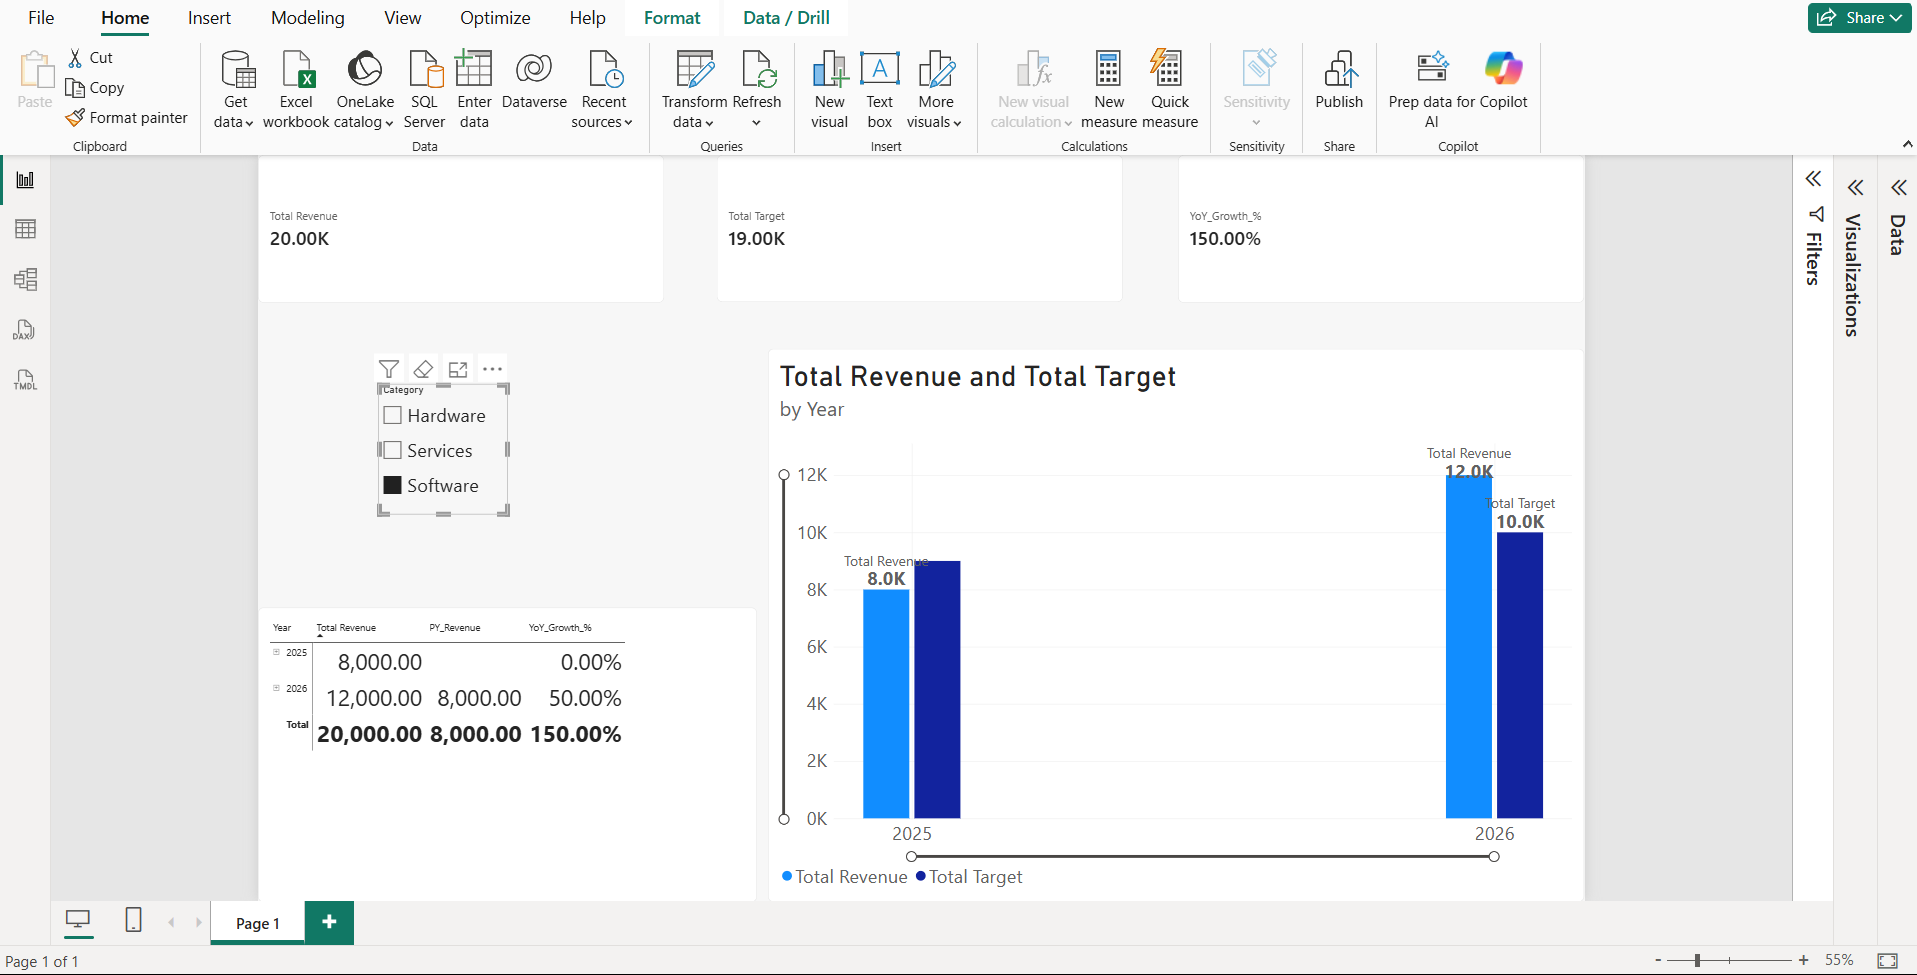

The page's visual inventory and layout, read from the dashboard file:
{"tool":"powerbi","page":{"name":"Page 1","canvas":[1920,1080],"ordinal":0},"visuals":[{"type":"pivotTable","fields":{"Rows":["Dim_Date.Date.Variation.Date Hierarchy.Year","Dim_Date.Date.Variation.Date Hierarchy.Quarter","Dim_Date.Date.Variation.Date Hierarchy.Month","Dim_Date.Date.Variation.Date Hierarchy.Day"],"Values":["Dim_Date.Total Revenue","Dim_Date.PY_Revenue","Dim_Date.YoY_Growth_%"]},"box":[0,654.5,722.5,426],"z":0},{"type":"cardVisual","fields":{"Data":["Dim_Date.Total Revenue"]},"box":[1331.7,0,588.7,214.1],"z":1000},{"type":"cardVisual","fields":{"Data":["Dim_Date.Total Target"]},"box":[0,0,588.7,213],"z":2000},{"type":"cardVisual","fields":{"Data":["Dim_Date.YoY_Growth_%"]},"box":[664.8,0,588.7,214.1],"z":3000},{"type":"slicer","fields":{"Values":["financial_analytics dim_product.Category"]},"box":[1197.9,654.5,722,426],"z":4000}]}

Visuals, with their boxes on the page's 1920x1080 design canvas (x1, y1, x2, y2). These are canvas units, not pixel positions in the 1917x975 screenshot, which may show the page scaled, cropped or inside an application window:
pivotTable - Dim_Date.Date.Variation.Date Hierarchy.Year x Dim_Date.Date.Variation.Date Hierarchy.Quarter: l=0, t=654, r=722, b=1080
cardVisual - Dim_Date.Total Revenue: l=1332, t=0, r=1920, b=214
cardVisual - Dim_Date.Total Target: l=0, t=0, r=589, b=213
cardVisual - Dim_Date.YoY_Growth_%: l=665, t=0, r=1254, b=214
slicer - financial_analytics dim_product.Category: l=1198, t=654, r=1920, b=1080
